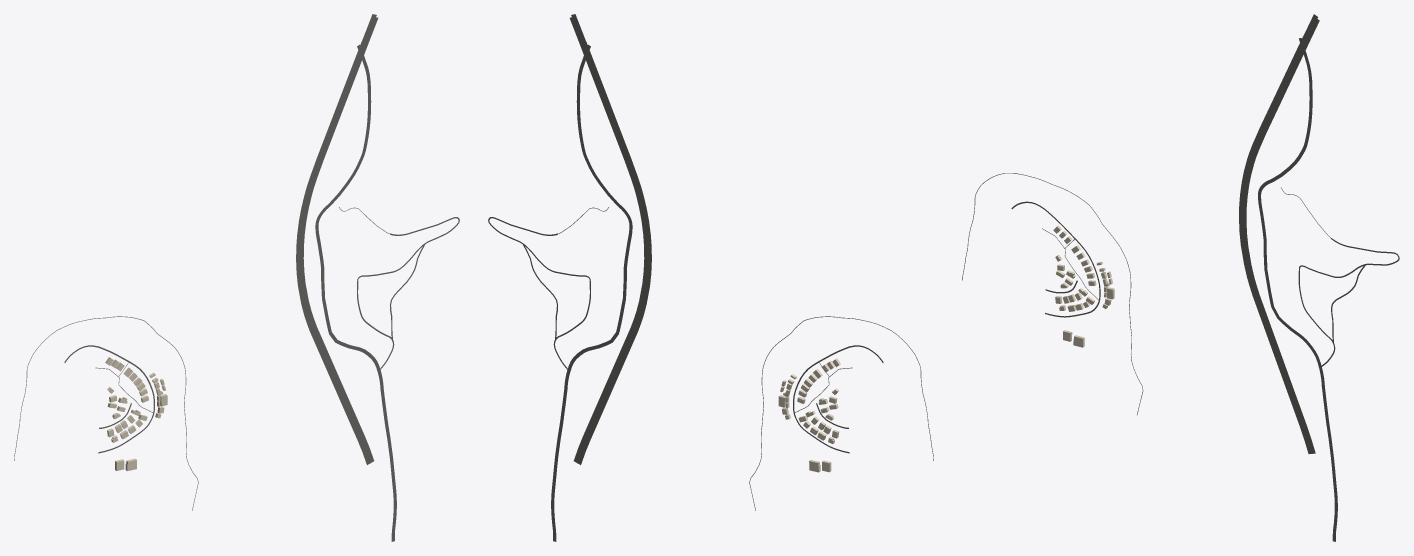
The model's file is historic-palestine-11_27_3525_3212.glb.
3 renders of one model, left to right at view 1: azimuth 30°, elevation 25°; view 2: azimuth 150°, elevation 25°; view 3: azimuth 330°, elevation 25°, orthographic.
Parts seen in each view (by area): view 1: Road 60, Road 60.001, Road 552, Road, Road 552.001; view 2: Road 60, Road 60.001, Road 552, Road, Road 552.001; view 3: Road 60, Road 60.001, Road 552, Road, Road 552.001.
Boxes of the visible parts, x1=… form: Road 60: x1=296, y1=14, x2=376, y2=464; Road 60.001: x1=300, y1=17, x2=378, y2=463; Road 552: x1=315, y1=199, x2=396, y2=541; Road: x1=357, y1=217, x2=459, y2=370; Road 552.001: x1=333, y1=58, x2=371, y2=201; Road 60: x1=571, y1=14, x2=651, y2=464; Road 60.001: x1=569, y1=17, x2=648, y2=463; Road 552: x1=551, y1=199, x2=632, y2=541; Road: x1=488, y1=217, x2=590, y2=370; Road 552.001: x1=576, y1=58, x2=614, y2=201; Road 60: x1=1239, y1=14, x2=1317, y2=453; Road 60.001: x1=1242, y1=18, x2=1319, y2=453; Road 552: x1=1258, y1=177, x2=1337, y2=541; Road: x1=1298, y1=238, x2=1399, y2=366; Road 552.001: x1=1275, y1=53, x2=1312, y2=179.
Size of the model in its own units: 1116 by 1274 by 8.7.
